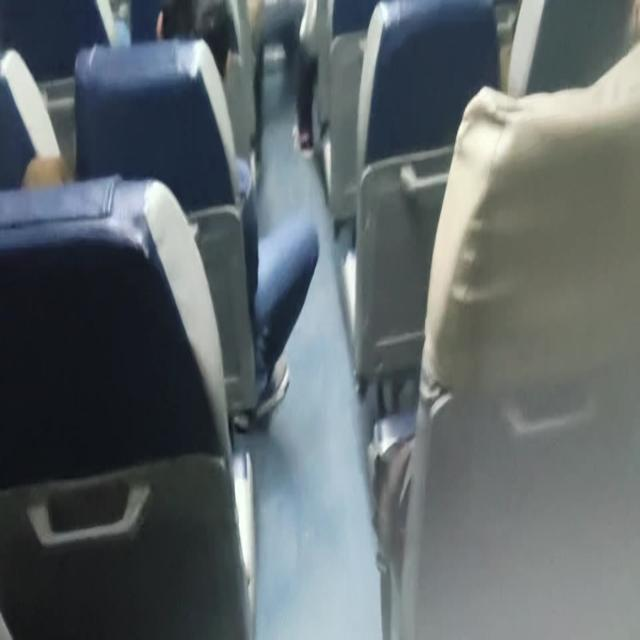person: (138, 0, 240, 96)
